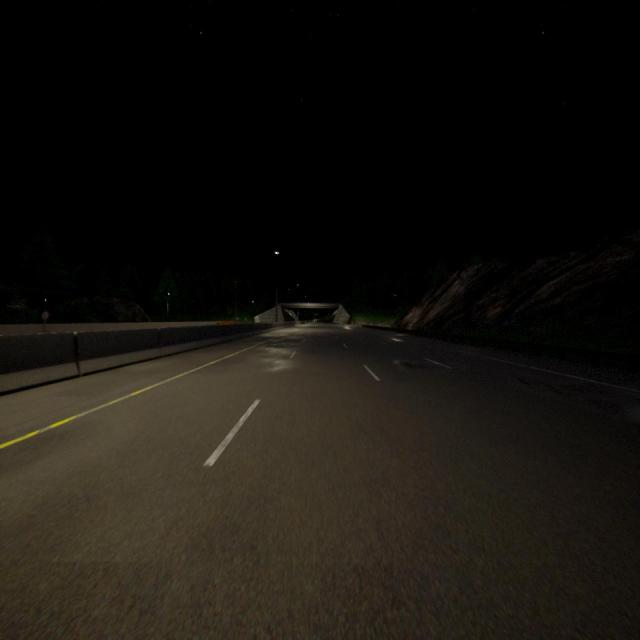Traffic_Signs: (42, 310, 48, 320)
